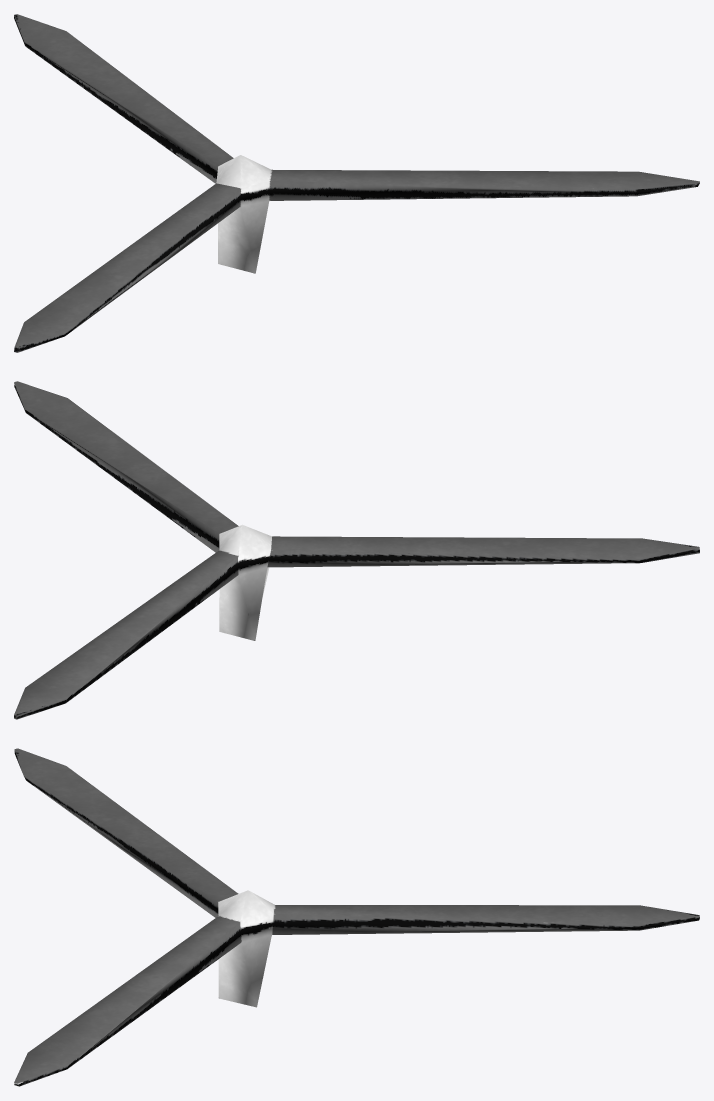
File: helice_droit.obj
The picture shows the model from 3 angles, top to bottom: view 1: azimuth 30°, elevation 25°; view 2: azimuth 150°, elevation 25°; view 3: azimuth 270°, elevation 25°; orthographic projection.
Parts seen in each view (by area): view 1: helice_D retopo; view 2: helice_D retopo; view 3: helice_D retopo.
Part boxes in pixels (box(x1,y1,x2,y2)): helice_D retopo: box(14, 14, 699, 352); helice_D retopo: box(14, 381, 699, 719); helice_D retopo: box(14, 748, 699, 1086).
Bounding box in the file's own units: 10.13 × 1.53 × 8.79.
Materials: 1 (1 with a texture image).
